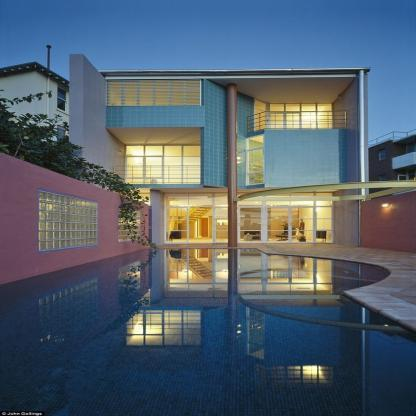Balcony: (247, 111, 347, 133), (114, 166, 201, 184)
Building Outline: (0, 54, 416, 284)
Door: (126, 157, 163, 184), (189, 207, 213, 243), (270, 112, 299, 130)
Facade: (0, 54, 416, 284)
Floor Slab: (105, 123, 347, 138), (114, 184, 348, 188)
Glass Wall: (165, 193, 334, 243), (125, 146, 201, 184), (270, 104, 333, 129)
Pillar: (228, 84, 237, 247)
Window: (106, 128, 204, 184), (38, 190, 97, 251), (107, 80, 201, 106), (248, 135, 263, 185), (119, 208, 141, 242)
